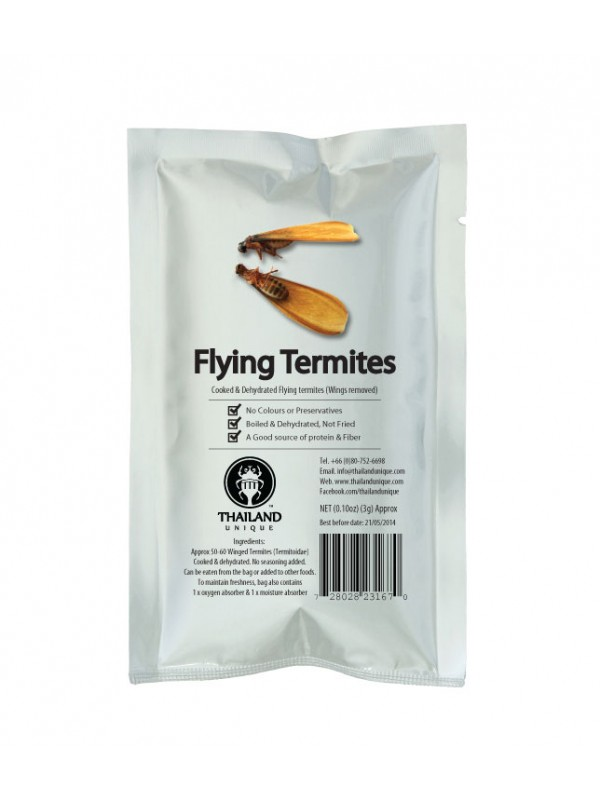flying termite: (227, 261, 364, 343), (233, 209, 369, 260)
